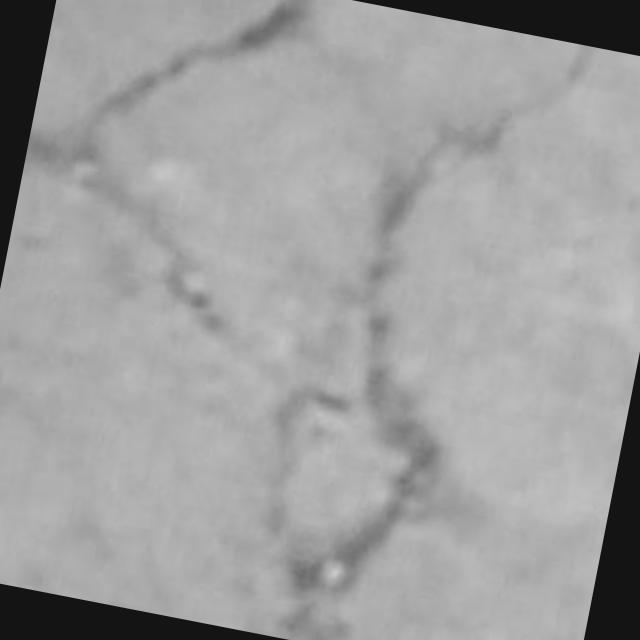crack: (284, 44, 593, 639), (26, 0, 310, 171), (88, 0, 308, 125)
